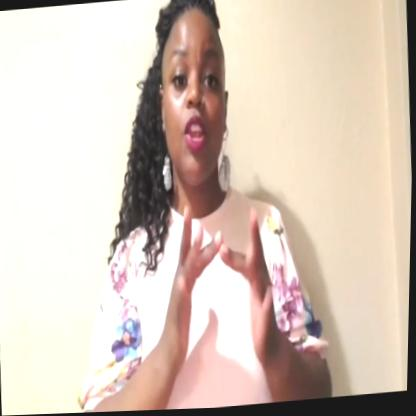Internet: (161, 184, 286, 393)
